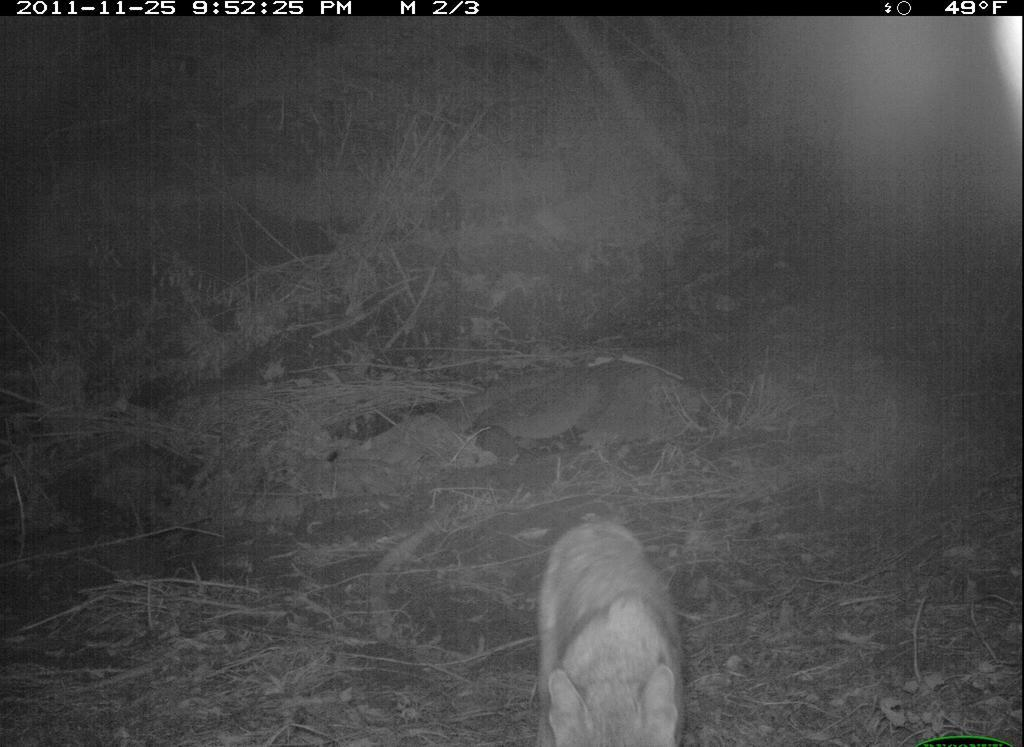bobcat: (519, 506, 701, 747)
